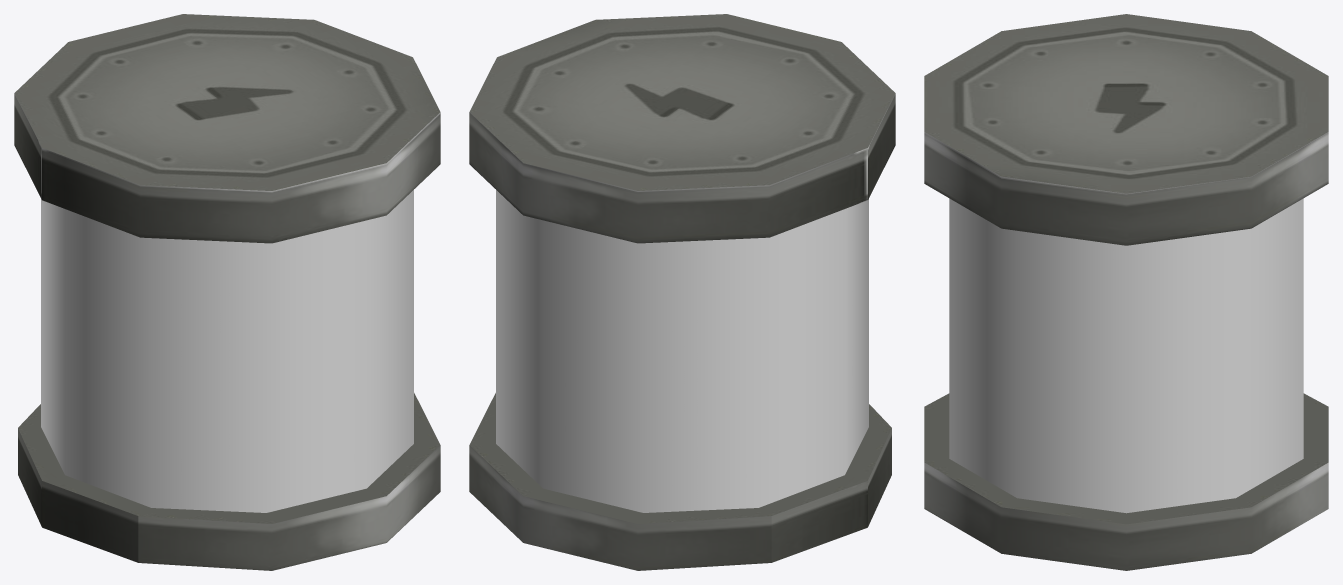
The model's file is item.fbx.
The picture shows the model from 3 angles, left to right: view 1: azimuth 30°, elevation 25°; view 2: azimuth 150°, elevation 25°; view 3: azimuth 270°, elevation 25°; orthographic projection.
Parts seen in each view (by area): view 1: pCylinder2; view 2: pCylinder2; view 3: pCylinder2.
Boxes of the visible parts, x1=… form: pCylinder2: x1=14, y1=14, x2=440, y2=570; pCylinder2: x1=469, y1=14, x2=895, y2=570; pCylinder2: x1=924, y1=14, x2=1328, y2=570.
Bounding box in the file's own units: 0.6089 × 0.5956 × 0.5791.
